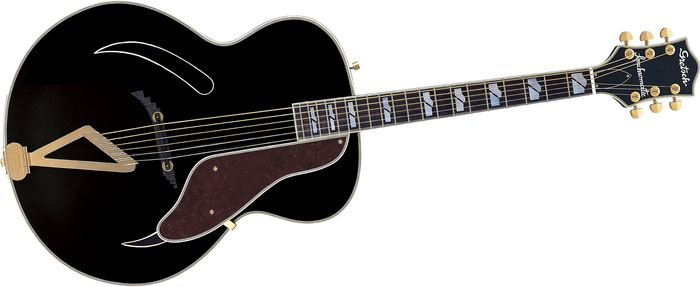guitar: (1, 1, 700, 287)
